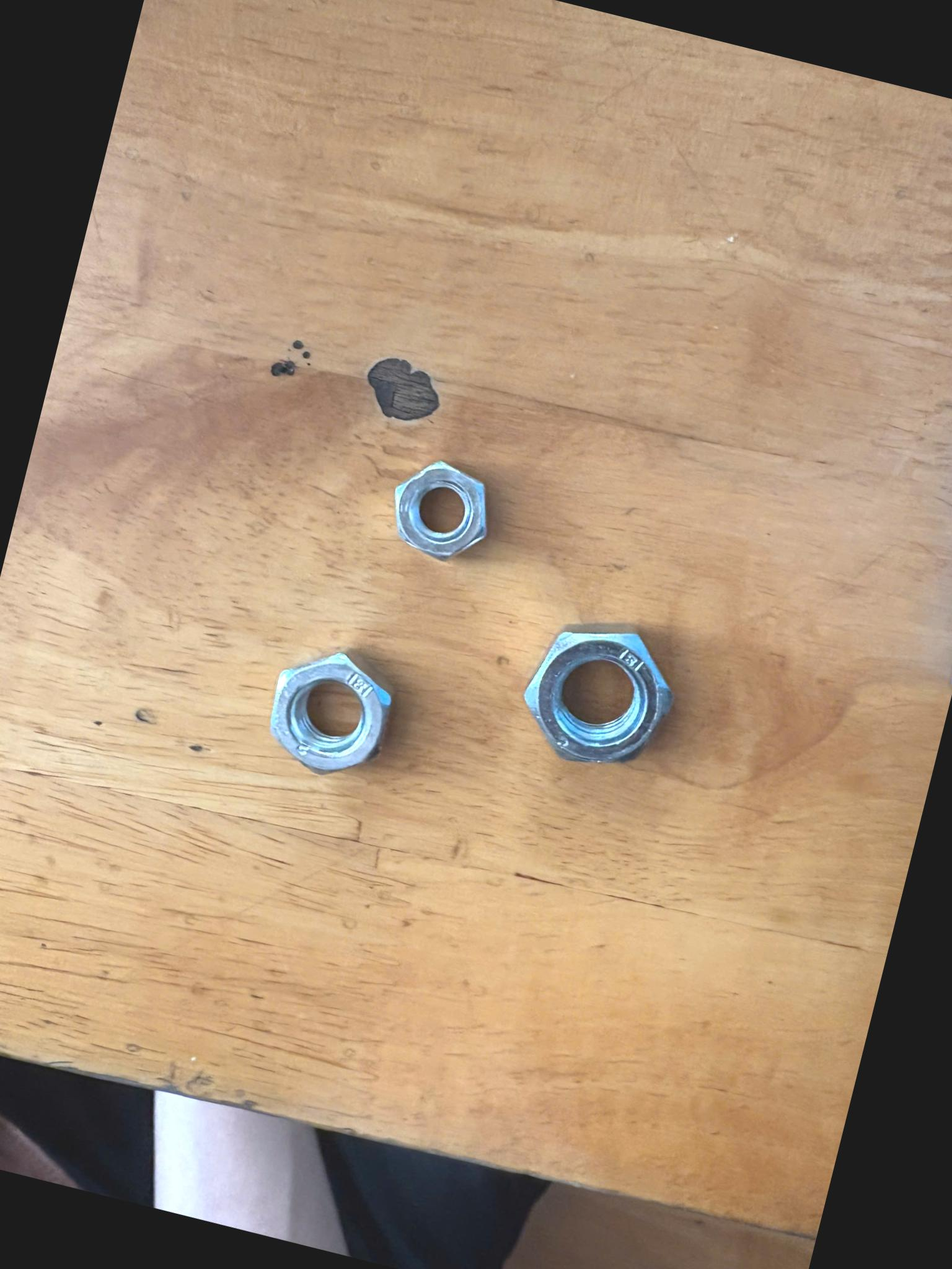nut: (504, 608, 703, 793), (361, 441, 509, 598)
